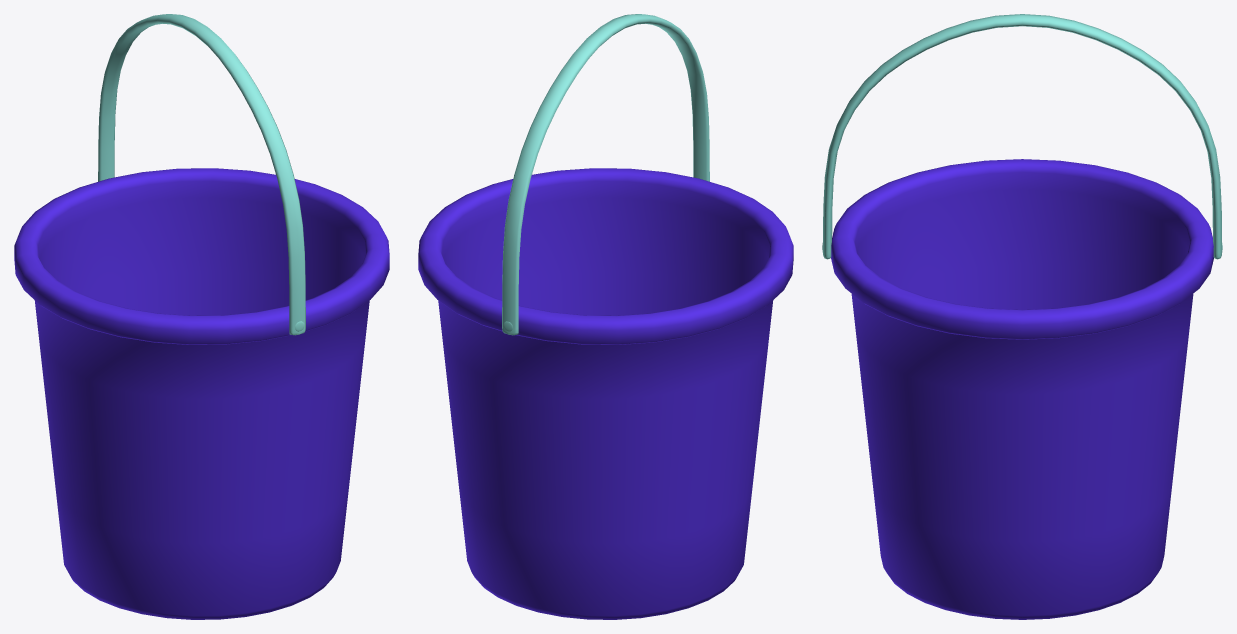
The model's file is Bucket.fbx.
3 views of the same model, side by side, from view 1: azimuth 30°, elevation 25°; view 2: azimuth 150°, elevation 25°; view 3: azimuth 270°, elevation 25° (orthographic).
Visible parts, largest first — view 1: Cylinder, Sphere; view 2: Cylinder, Sphere; view 3: Cylinder, Sphere.
Boxes of the visible parts, bbox=[...] form: Cylinder: bbox=[14, 168, 389, 619]; Sphere: bbox=[98, 14, 305, 335]; Cylinder: bbox=[418, 168, 793, 619]; Sphere: bbox=[502, 14, 709, 335]; Cylinder: bbox=[831, 159, 1213, 619]; Sphere: bbox=[822, 14, 1222, 259].
Size of the model in its own units: 109 by 172 by 114.
